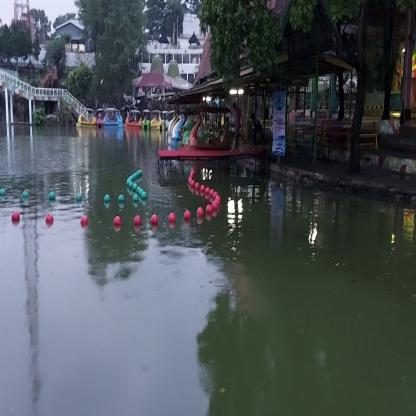green_buoy: (104, 194, 112, 206), (48, 191, 56, 201), (137, 187, 144, 198), (0, 188, 7, 197), (119, 194, 125, 204), (22, 190, 29, 198), (76, 193, 82, 202), (142, 193, 147, 202), (133, 196, 138, 204)
red_buoy: (134, 215, 142, 228), (12, 212, 20, 223), (114, 216, 122, 227), (168, 212, 175, 224), (151, 214, 158, 225), (81, 215, 88, 226), (45, 214, 53, 223), (197, 208, 204, 218), (212, 202, 218, 212), (206, 206, 212, 216), (184, 210, 190, 220)
